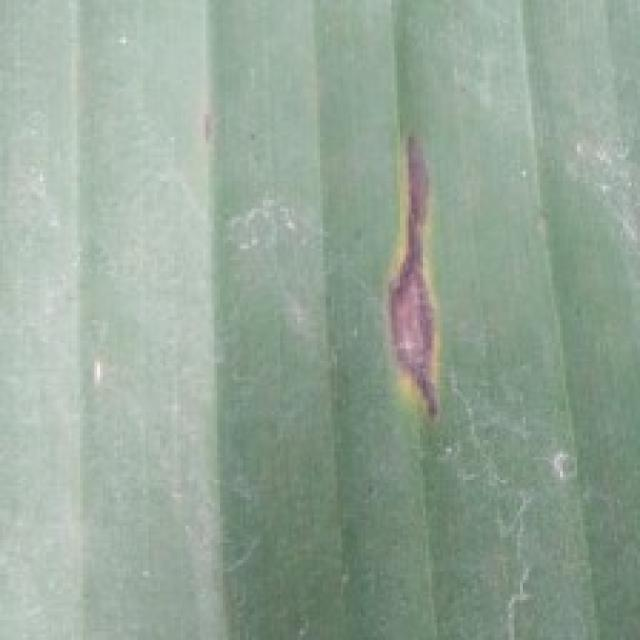Early_leaf_spot: (350, 116, 474, 452)
